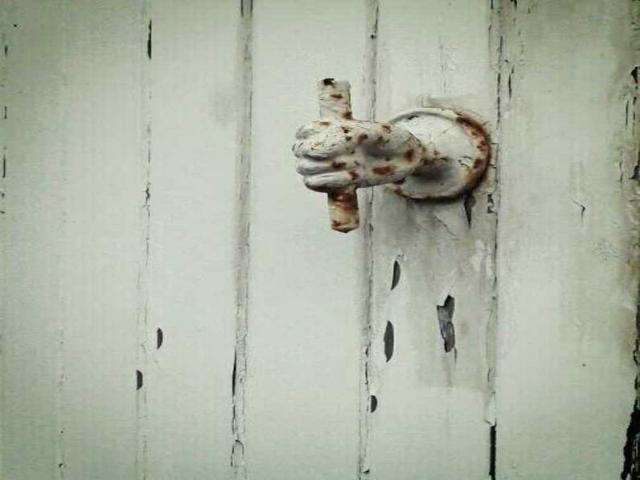Door-handle: (288, 76, 489, 232)
